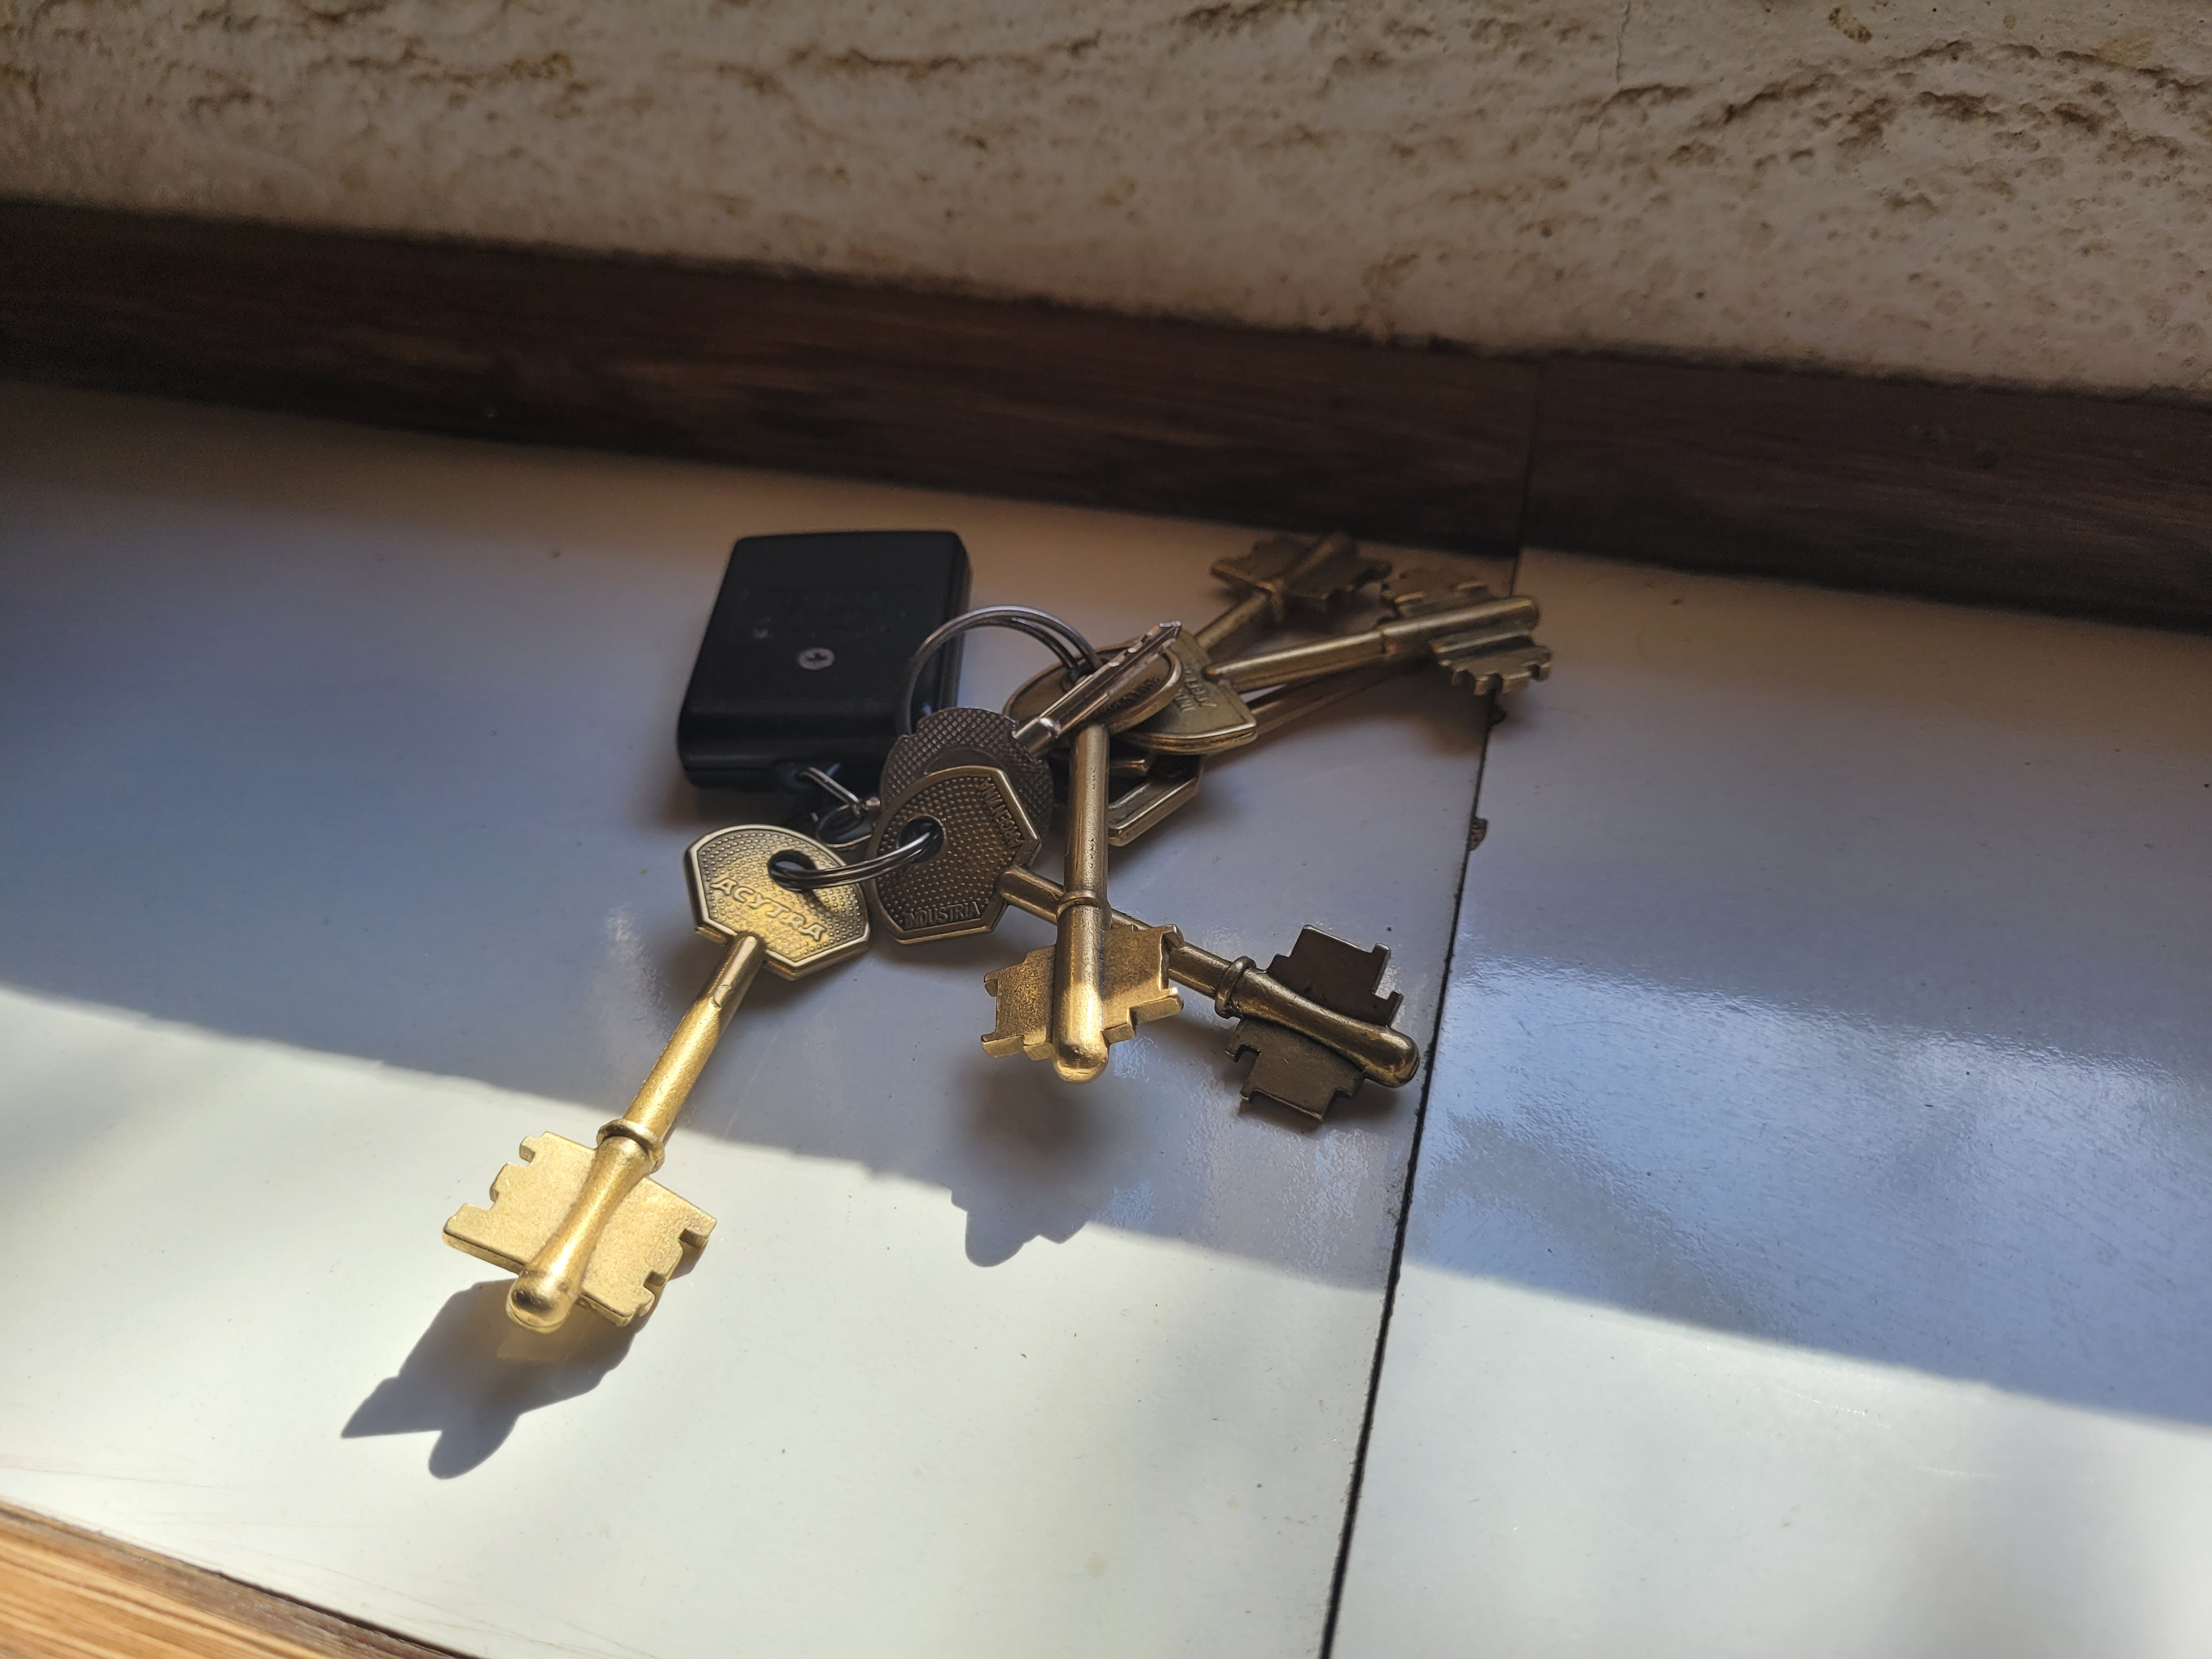llave: (439, 498, 1566, 1344)
